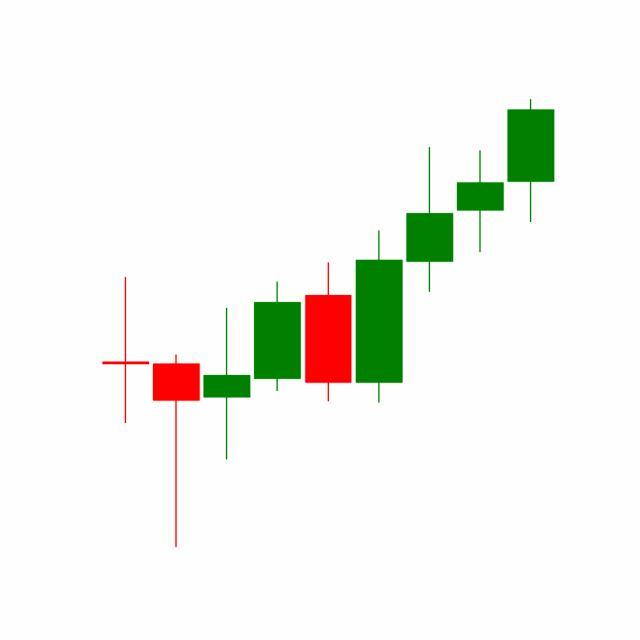Hikkake Pattern: (302, 100, 555, 408)
